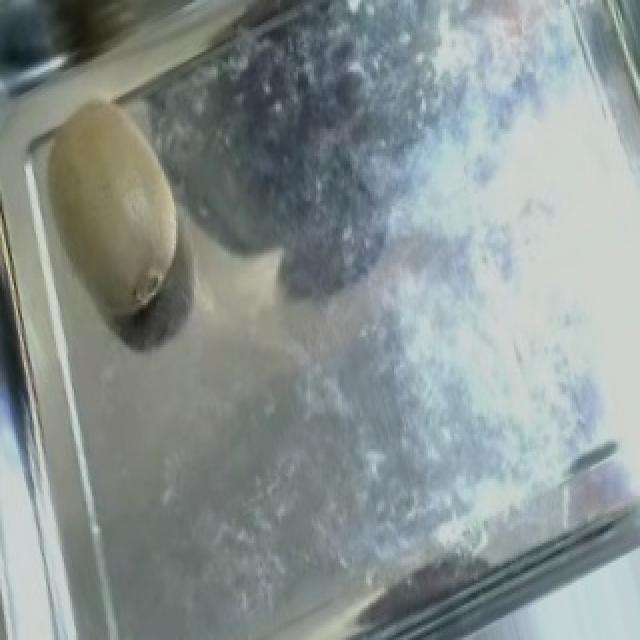Fruit: (2, 75, 212, 348)
